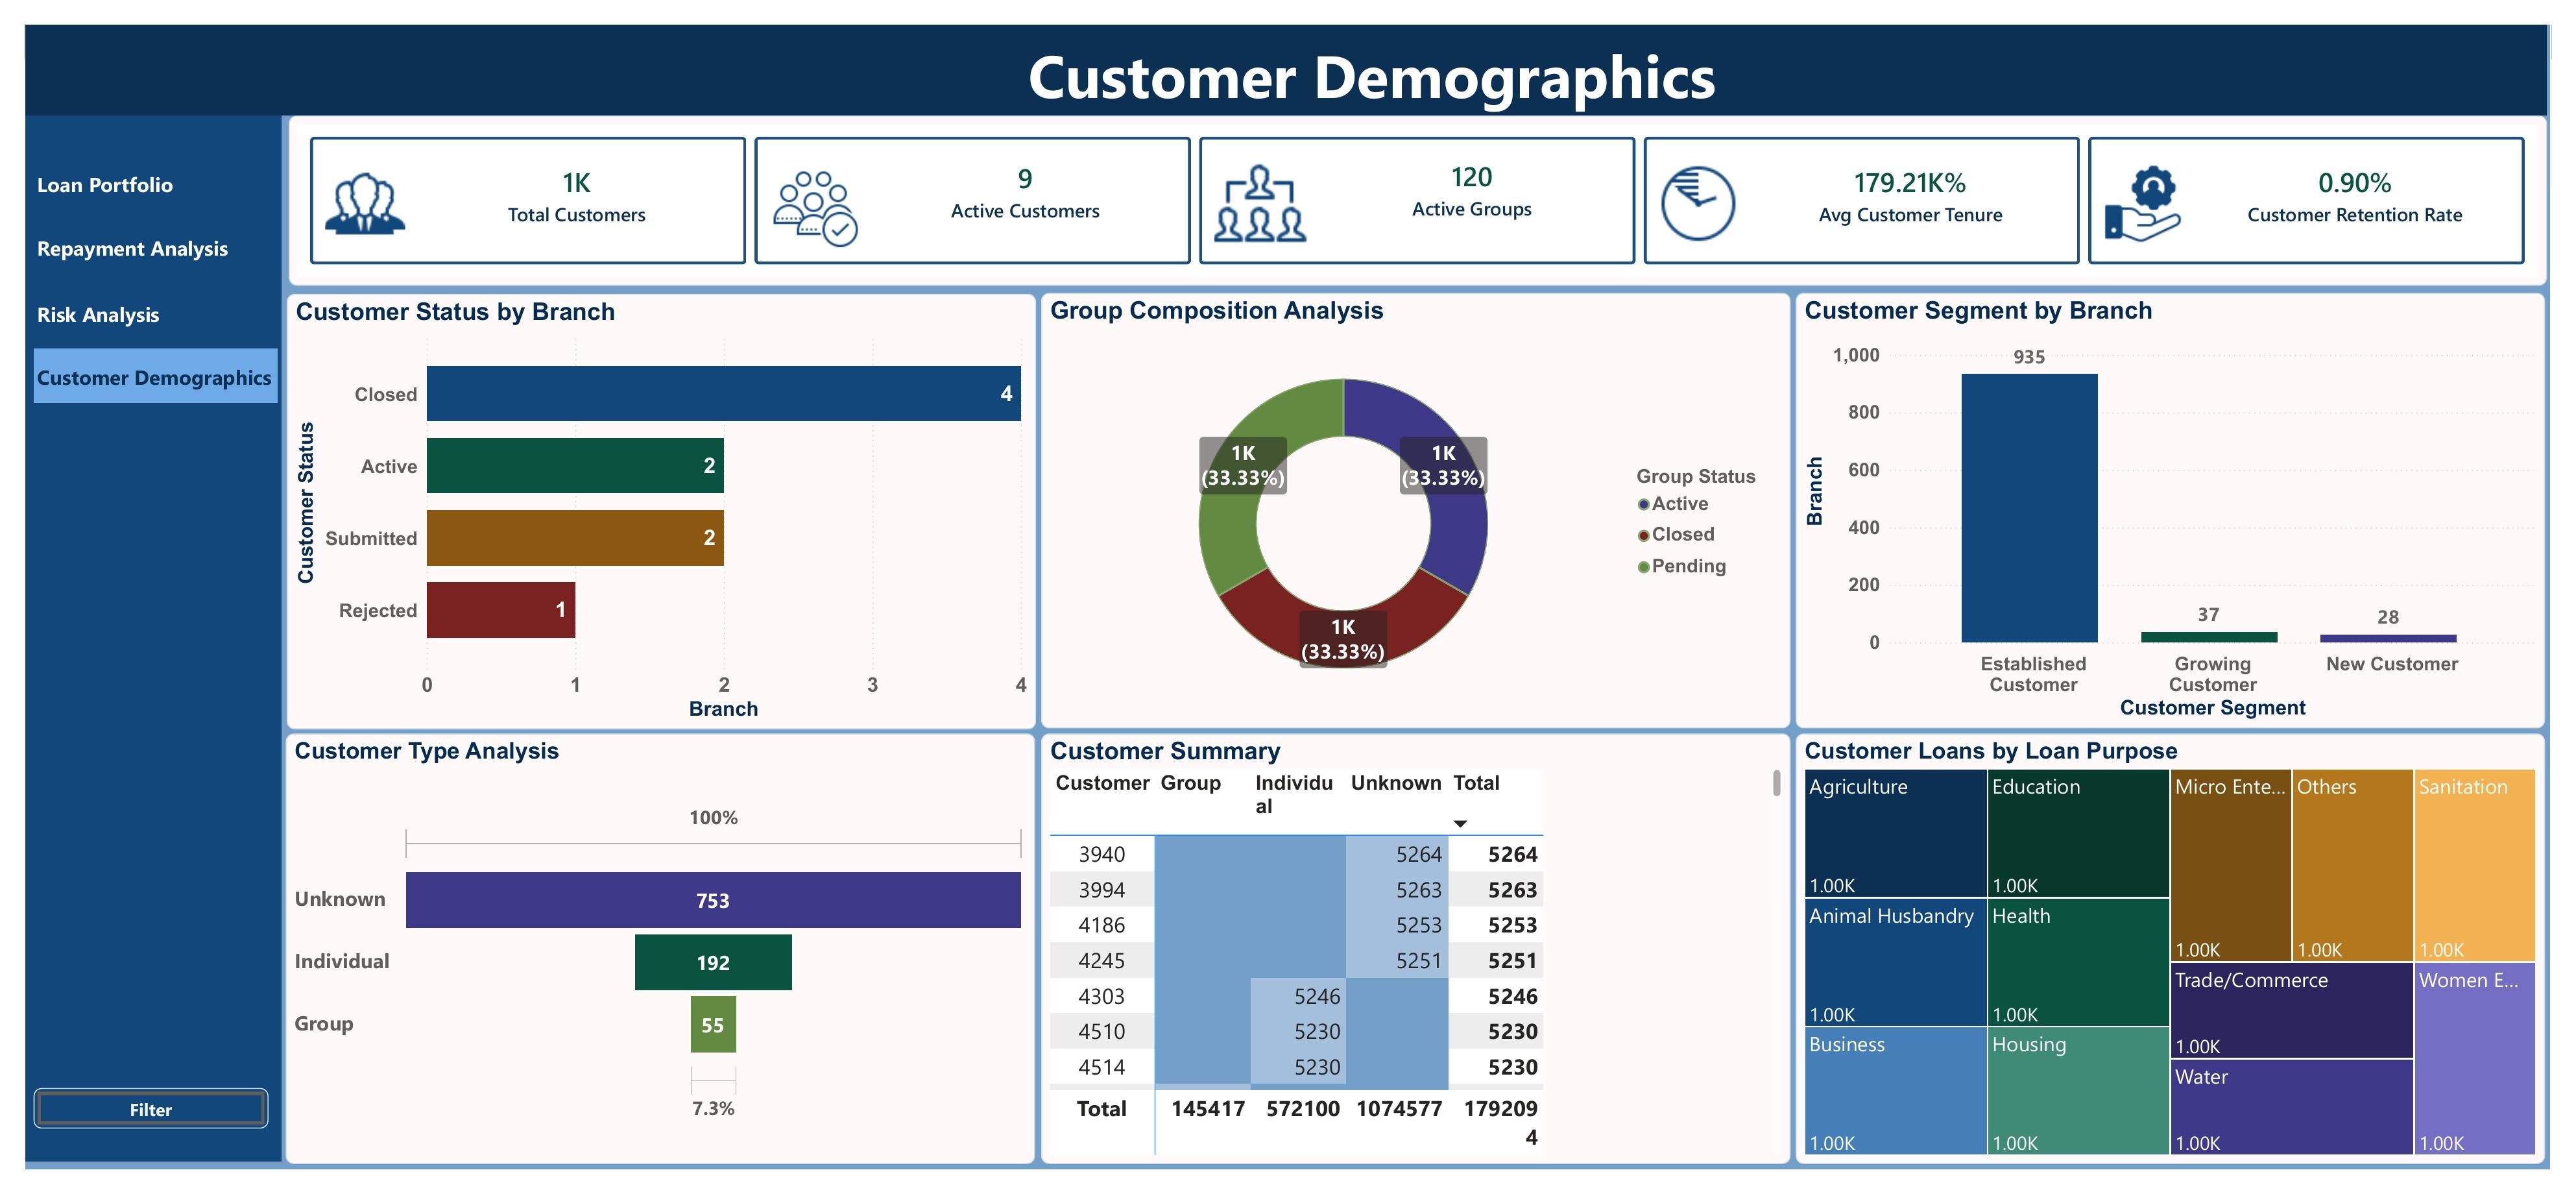

The dashboard page shown, as its layout file describes it:
{"tool":"powerbi","page":{"name":"Customer_Demographics","canvas":[2493,1130],"ordinal":3},"visuals":[{"type":"barChart","title":"Customer Status by Branch","fields":{"Category":["customer_dim.customer_status_label"],"Y":["Count(customer_dim.branch_id)"]},"box":[257.9,266.1,740,430],"z":0},{"type":"cardVisual","fields":{"Data":["customer_demographics.Total Customers","customer_demographics.ActiveCustomers","customer_demographics.ActiveGroups","customer_demographics.LoanPerClient","customer_demographics.Customer Retention Rate"]},"box":[260,90,2230,167.5],"z":1000},{"type":"donutChart","title":"Group Composition Analysis","fields":{"Category":["group_dim.group_status_label"],"Y":["CountNonNull(customer_dim.customer_id)"]},"box":[1002.5,265,740,430],"z":2000},{"type":"funnel","title":"Customer Type Analysis","fields":{"Category":["customer_dim.client_type_label"],"Y":["CountNonNull(customer_dim.customer_id)"]},"box":[257.3,700.1,740,425],"z":3000},{"type":"treemap","title":"Customer Loans by Loan Purpose","fields":{"Group":["loan_fact.loan_purpose_label"],"Values":["CountNonNull(customer_dim.customer_segment)"]},"box":[1747.5,700,740,425],"z":4000},{"type":"clusteredColumnChart","title":"Customer Segment by Branch","fields":{"Category":["customer_dim.customer_segment"],"Y":["CountNonNull(customer_dim.branch_id)"]},"box":[1747.5,265,740,430],"z":5000},{"type":"pivotTable","title":"Customer Summary","fields":{"Rows":["customer_dim.customer_id"],"Values":["Sum(customer_dim.customer_tenure_days)"],"Columns":["customer_dim.client_type_label"]},"box":[1004,702,740,424],"z":6000},{"type":"shape","box":[0,0,2490,90],"z":7000},{"type":"shape","box":[0,90,252.5,1032],"z":8000},{"type":"textbox","box":[2,0,2488,94],"z":9000},{"type":"actionButton","box":[8,130,241,54],"z":12000},{"type":"actionButton","box":[7.8,193.3,241,54],"z":13000},{"type":"actionButton","box":[7.8,257.8,241,54],"z":14000},{"type":"actionButton","box":[7.8,320,241,54],"z":15000},{"type":"actionButton","box":[10,1055,232.5,60],"z":16000}]}

Visuals, with their boxes on the page's 2493x1130 design canvas (x1, y1, x2, y2). These are canvas units, not pixel positions in the 2576x1194 screenshot, which may show the page scaled, cropped or inside an application window:
"Customer Status by Branch" barChart: box(258, 266, 998, 696)
cardVisual - customer_demographics.Total Customers x customer_demographics.ActiveCustomers: box(260, 90, 2490, 258)
"Group Composition Analysis" donutChart: box(1002, 265, 1742, 695)
"Customer Type Analysis" funnel: box(257, 700, 997, 1125)
"Customer Loans by Loan Purpose" treemap: box(1748, 700, 2488, 1125)
"Customer Segment by Branch" clusteredColumnChart: box(1748, 265, 2488, 695)
"Customer Summary" pivotTable: box(1004, 702, 1744, 1126)
shape: box(0, 0, 2490, 90)
shape: box(0, 90, 252, 1122)
textbox: box(2, 0, 2490, 94)
actionButton: box(8, 130, 249, 184)
actionButton: box(8, 193, 249, 247)
actionButton: box(8, 258, 249, 312)
actionButton: box(8, 320, 249, 374)
actionButton: box(10, 1055, 242, 1115)
